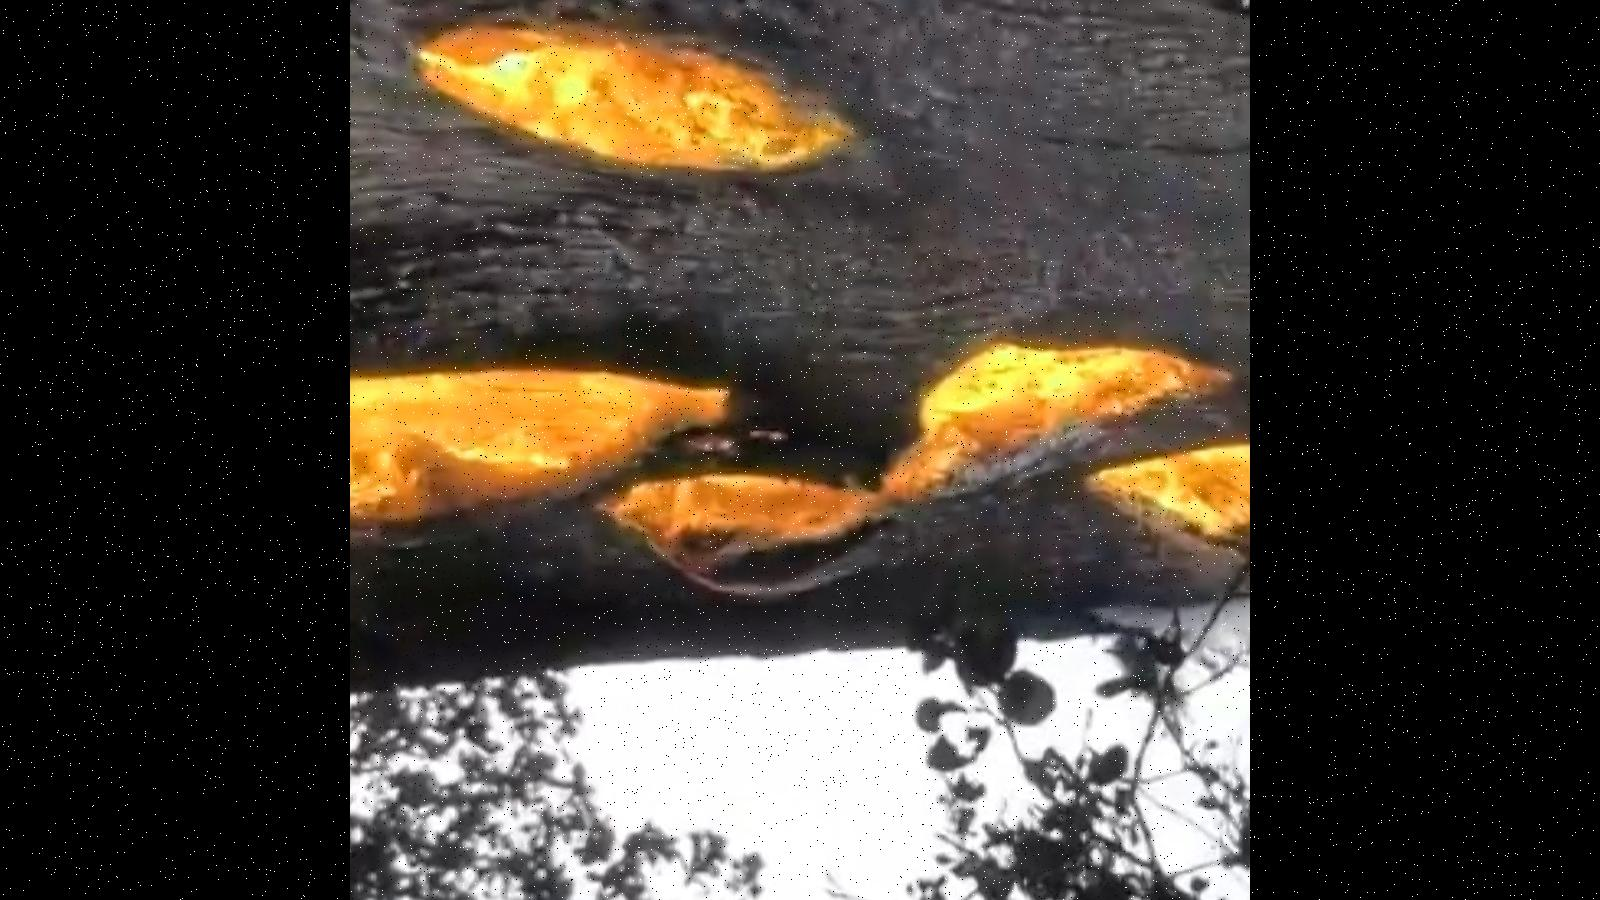fire: (349, 27, 1251, 614)
